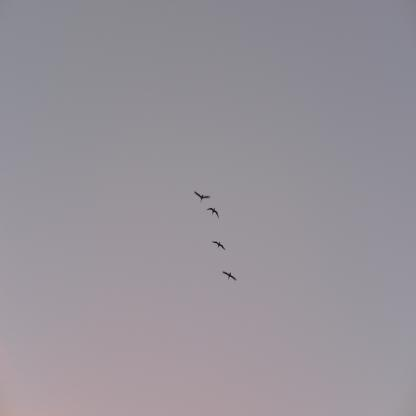bird: (194, 190, 210, 204), (222, 271, 237, 281), (206, 208, 219, 219), (212, 240, 226, 250)
